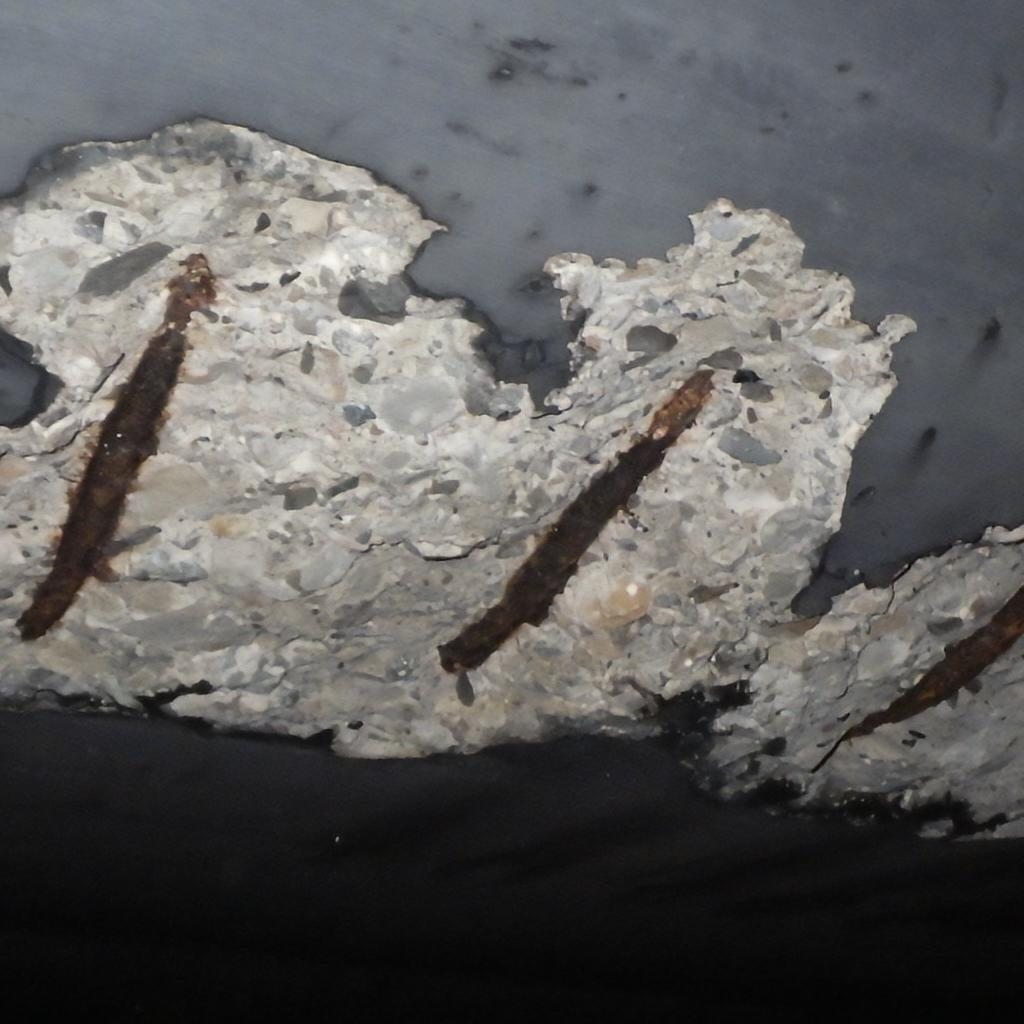exposed_rebar: (438, 370, 714, 672), (16, 254, 216, 640), (810, 587, 1024, 773)
spalling: (0, 120, 1024, 833)
